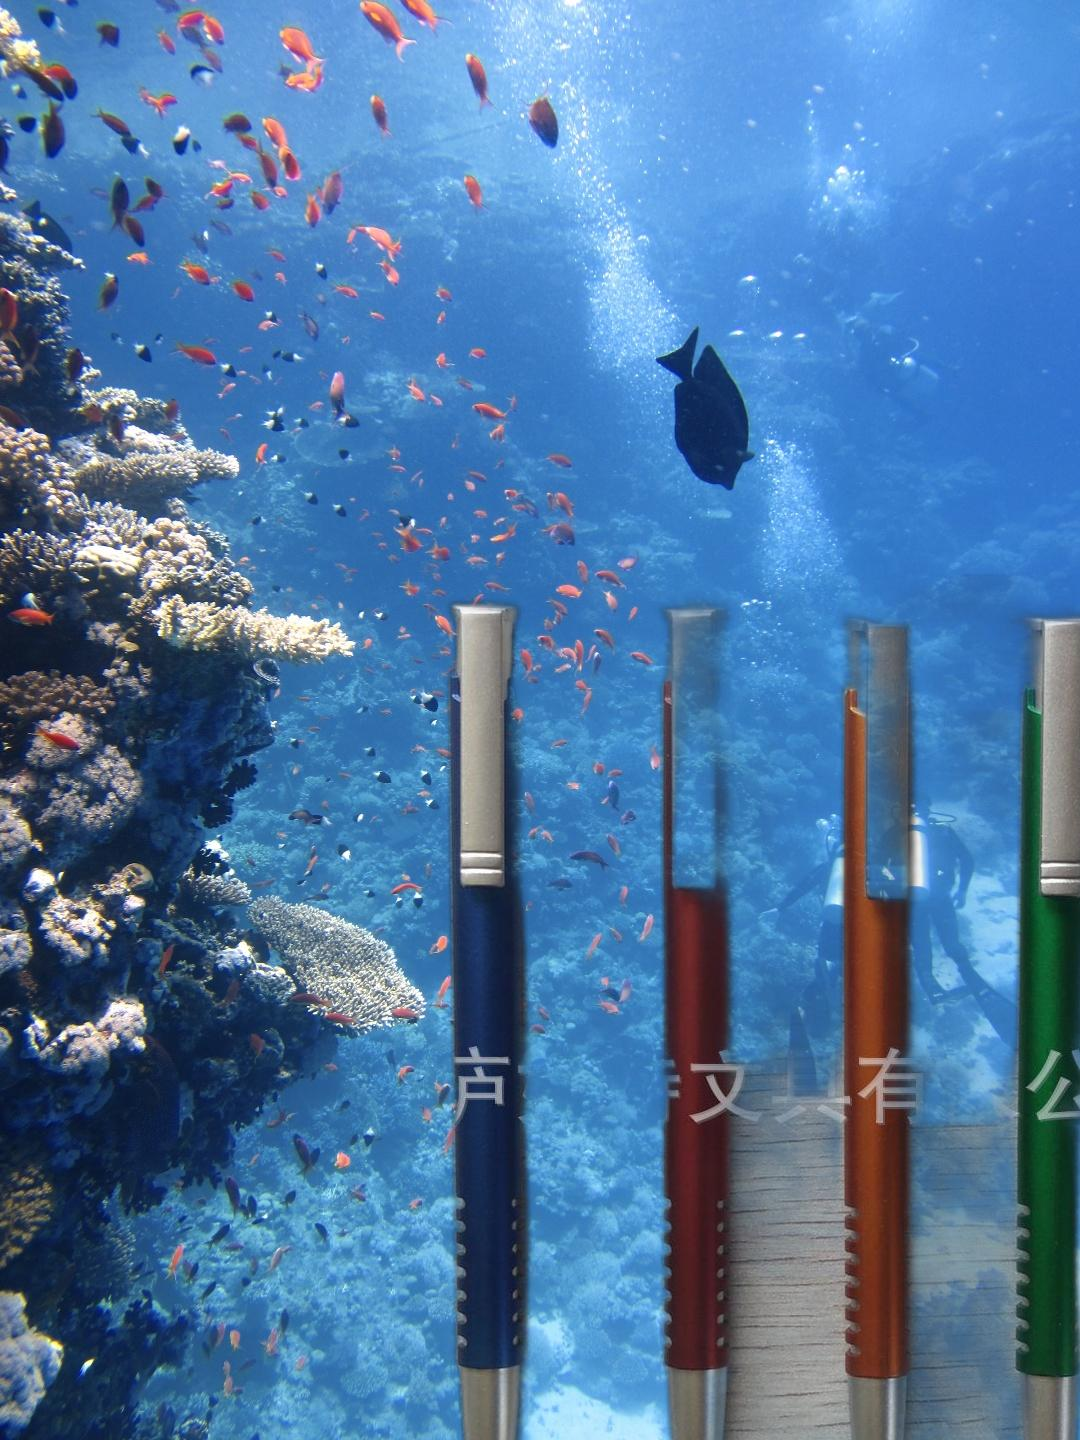penholder: (440, 574, 1080, 1440)
